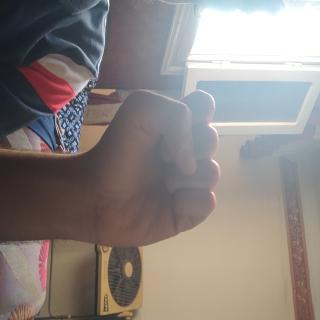SAD: (63, 131, 188, 320)
